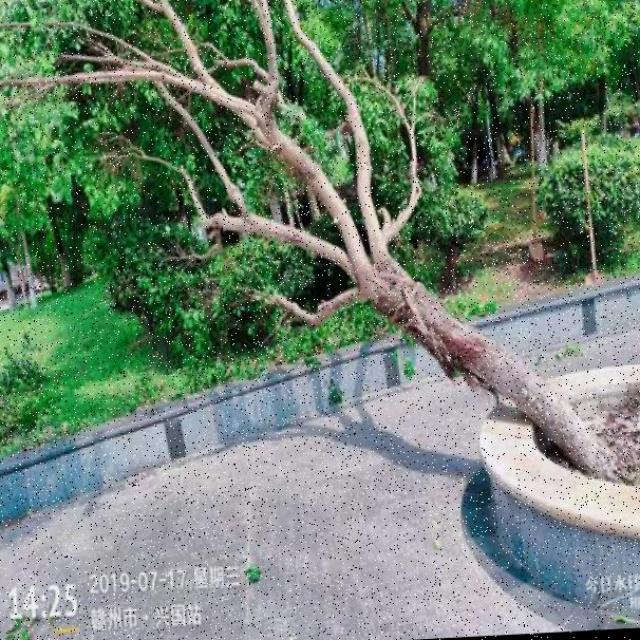fallen_object: (0, 0, 626, 513)
